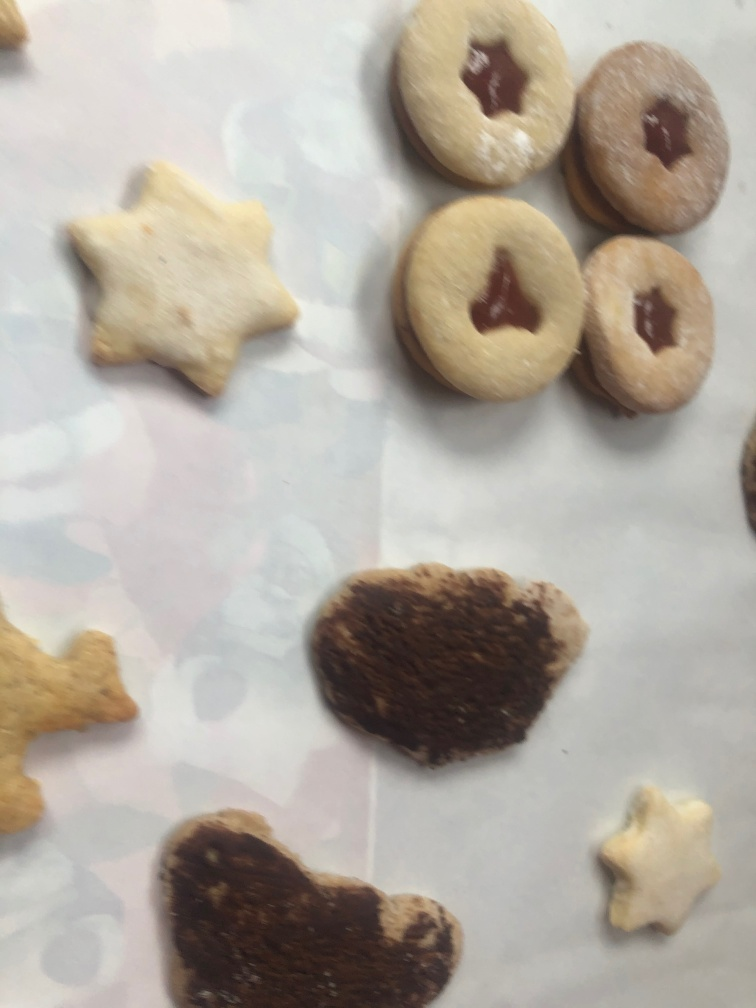christmas shortbread with jam: (388, 190, 588, 405), (388, 1, 577, 189), (571, 33, 732, 244), (580, 233, 723, 419)
lamb: (1, 599, 147, 866)
star: (57, 157, 309, 412), (590, 779, 716, 954)
weird #1: (143, 805, 463, 1008), (302, 557, 591, 773)
